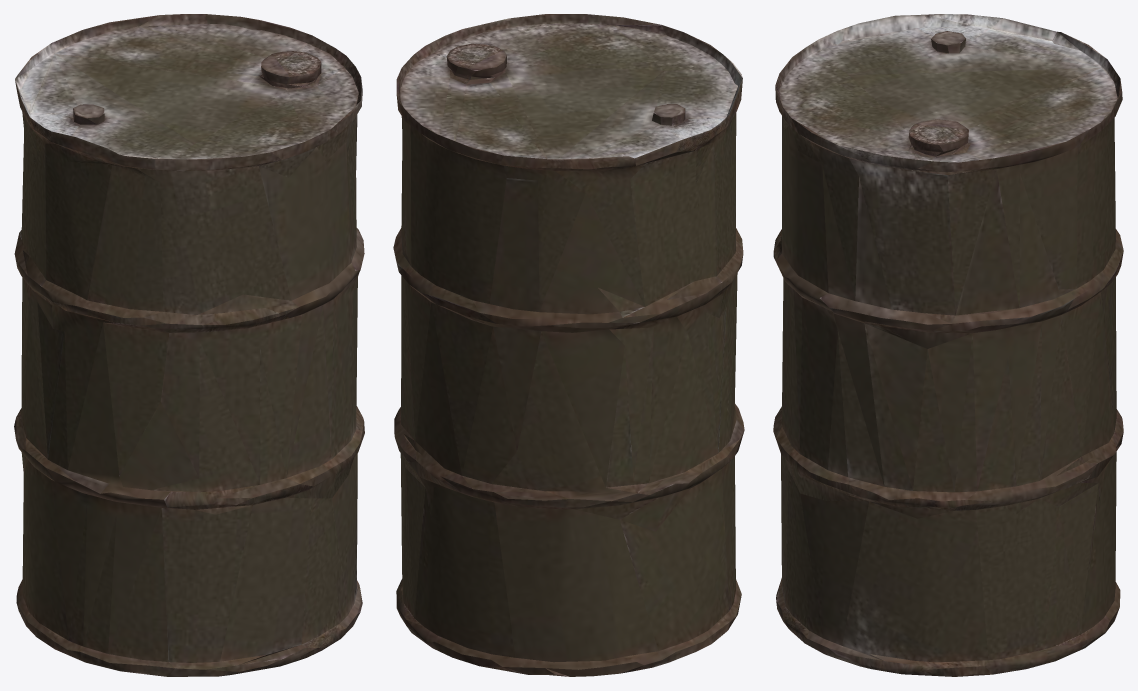
Rendered from fuel_drum.glb.
The picture shows the model from 3 angles, left to right: view 1: azimuth 30°, elevation 25°; view 2: azimuth 150°, elevation 25°; view 3: azimuth 270°, elevation 25°; orthographic projection.
Parts seen in each view (by area): view 1: Mesh_0; view 2: Mesh_0; view 3: Mesh_0.
Part boxes in pixels (x1,y1,x2,y2): Mesh_0: [14, 14, 364, 676]; Mesh_0: [393, 14, 744, 676]; Mesh_0: [773, 14, 1123, 676].
Size of the model in its own units: 1.15 by 1.9 by 1.16.
Materials: 1 (1 with a texture image).
